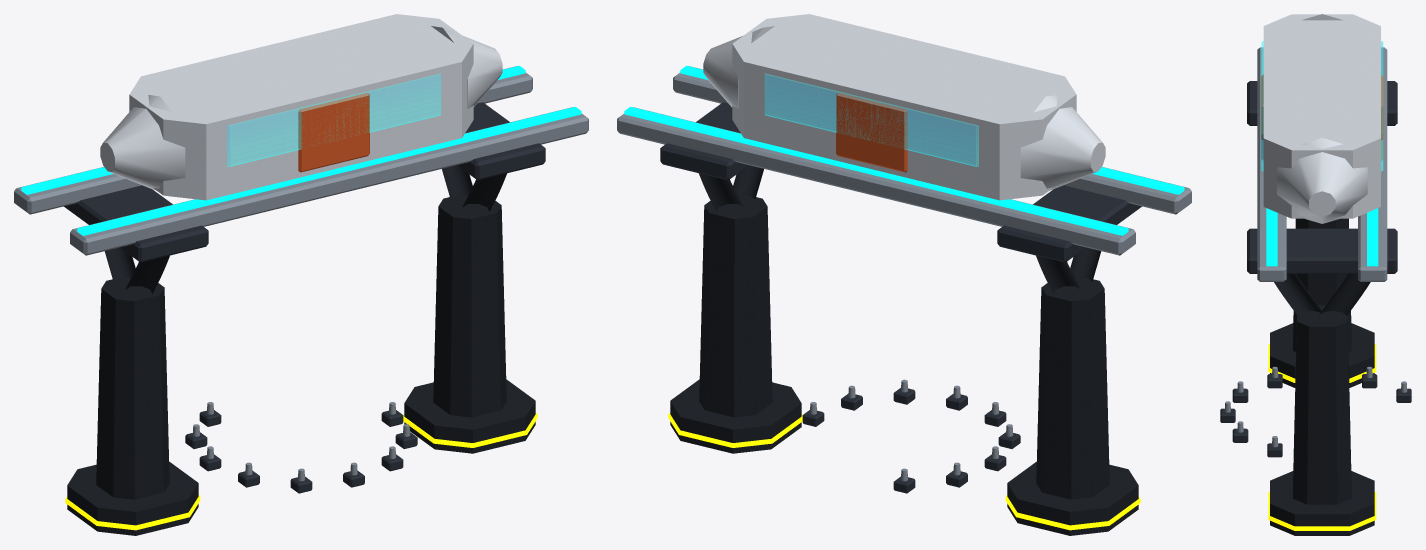
File: prop_01_r1_01.glb
3 renders of one model, left to right at view 1: azimuth 30°, elevation 25°; view 2: azimuth 150°, elevation 25°; view 3: azimuth 270°, elevation 25°, orthographic. The views are drawn at different scales.
Parts seen in each view (by area): view 1: Prop01_C01_aero_white, Prop01_C01_gunmetal, Prop01_C01_steel_machined, Prop01_C01_carbon_slate, Prop01_C01_glass_cyan, Prop01_C01_led_cyan, Prop01_C01_accent_orange, Prop01_C01_led_amber; view 2: Prop01_C01_aero_white, Prop01_C01_gunmetal, Prop01_C01_steel_machined, Prop01_C01_carbon_slate, Prop01_C01_glass_cyan, Prop01_C01_led_cyan, Prop01_C01_accent_orange, Prop01_C01_led_amber; view 3: Prop01_C01_aero_white, Prop01_C01_gunmetal, Prop01_C01_carbon_slate, Prop01_C01_steel_machined, Prop01_C01_led_cyan, Prop01_C01_led_amber, Prop01_C01_glass_cyan, Prop01_C01_accent_orange.
Part boxes in pixels (<box>): Prop01_C01_aero_white: <box>100,14,502,200</box>; Prop01_C01_gunmetal: <box>67,165,535,535</box>; Prop01_C01_steel_machined: <box>14,66,588,481</box>; Prop01_C01_carbon_slate: <box>64,102,545,493</box>; Prop01_C01_glass_cyan: <box>227,73,440,166</box>; Prop01_C01_led_cyan: <box>21,65,581,235</box>; Prop01_C01_accent_orange: <box>298,92,369,172</box>; Prop01_C01_led_amber: <box>65,413,537,530</box>; Prop01_C01_aero_white: <box>703,14,1105,200</box>; Prop01_C01_gunmetal: <box>670,165,1138,535</box>; Prop01_C01_steel_machined: <box>617,66,1191,481</box>; Prop01_C01_carbon_slate: <box>660,102,1141,493</box>; Prop01_C01_glass_cyan: <box>765,73,978,166</box>; Prop01_C01_led_cyan: <box>624,65,1184,235</box>; Prop01_C01_accent_orange: <box>836,92,907,172</box>; Prop01_C01_led_amber: <box>668,413,1140,530</box>; Prop01_C01_aero_white: <box>1263,14,1380,223</box>; Prop01_C01_gunmetal: <box>1270,218,1374,535</box>; Prop01_C01_carbon_slate: <box>1220,81,1411,457</box>; Prop01_C01_steel_machined: <box>1224,47,1407,447</box>; Prop01_C01_led_cyan: <box>1266,208,1378,266</box>; Prop01_C01_led_amber: <box>1268,344,1376,530</box>; Prop01_C01_glass_cyan: <box>1261,41,1383,171</box>; Prop01_C01_accent_orange: <box>1261,74,1383,160</box>.
Size of the model in its own units: 7.5 by 5.74 by 2.74.
8 materials, 8 textured.
